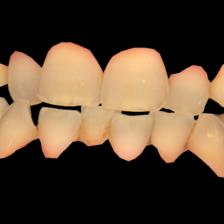cavity: (185, 133, 195, 148), (34, 125, 44, 138), (145, 131, 155, 143), (105, 124, 112, 141), (78, 123, 84, 141)
tooth: (104, 41, 167, 113), (42, 39, 101, 106), (39, 104, 81, 160), (192, 114, 224, 178), (112, 114, 155, 161), (1, 101, 34, 161), (170, 62, 207, 114), (156, 113, 190, 163), (10, 51, 41, 104), (85, 107, 111, 146)
